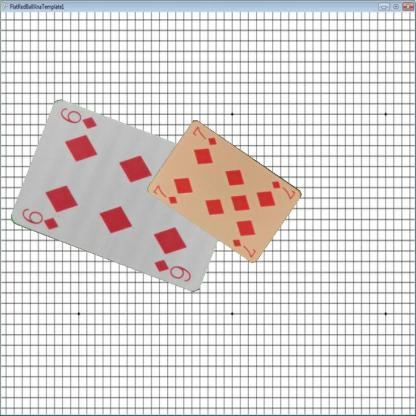6d: (19, 206, 60, 232)
7d: (269, 178, 297, 200), (151, 183, 179, 205)
